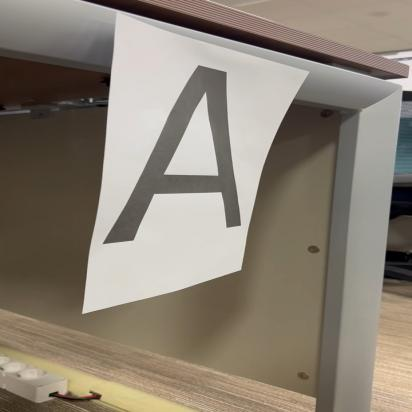seat: (110, 59, 267, 257)
